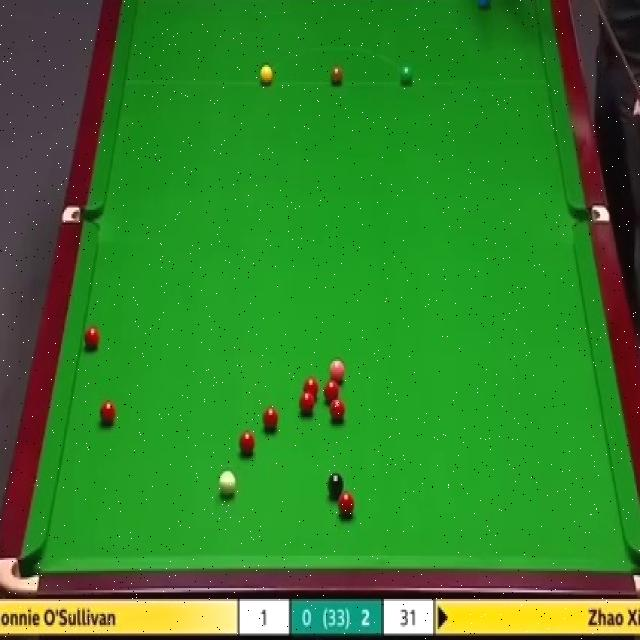black-ball: (326, 472, 345, 502)
blue-ball: (475, 0, 491, 13)
brown-ball: (330, 66, 344, 88)
green-ball: (399, 65, 414, 88)
pink-ball: (328, 356, 347, 386)
red-ball: (97, 397, 117, 429), (238, 431, 257, 461), (338, 492, 356, 521), (298, 392, 315, 418), (83, 325, 99, 352), (263, 409, 280, 434), (302, 377, 320, 400), (330, 398, 346, 422), (323, 381, 340, 402)
white-ball: (216, 468, 238, 500)
yellow-ball: (259, 64, 274, 87)
